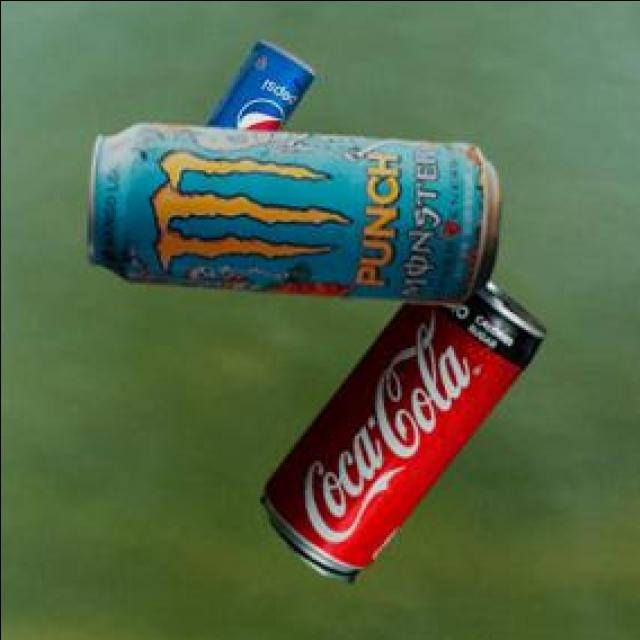logam: (256, 276, 542, 578), (85, 118, 497, 301), (199, 37, 310, 127)
